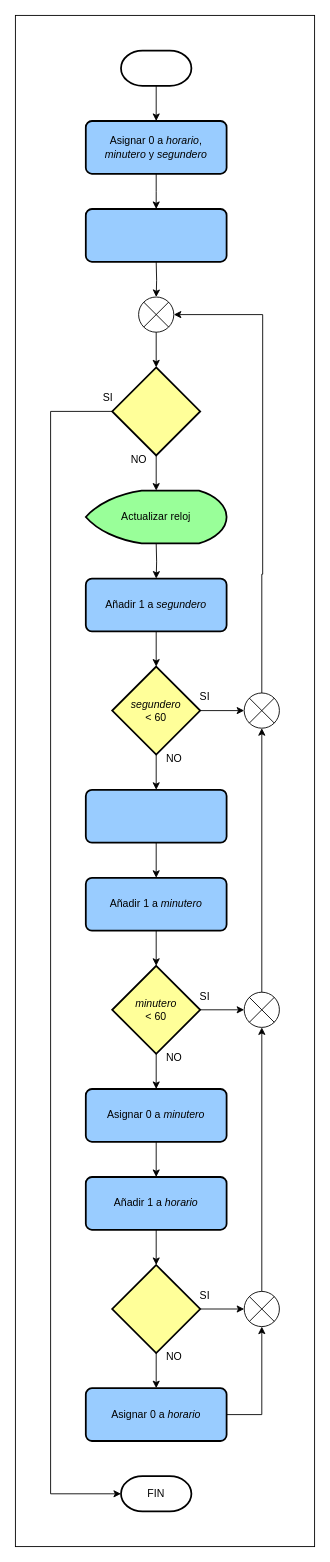
The diagram is 330 pixels wide and 1562 high, and some of its shapes have lost their labels. Each missing label, with the centre of its shape:
"Asignar 0 a segundero" belongs at [155,815].
"horario < 24" belongs at [156,1308].
"Inicializar interfaz del reloj" belongs at [155,235].
"INICIO" belongs at [156,67].
"Tecla de cierre pulsada" belongs at [156,411].
